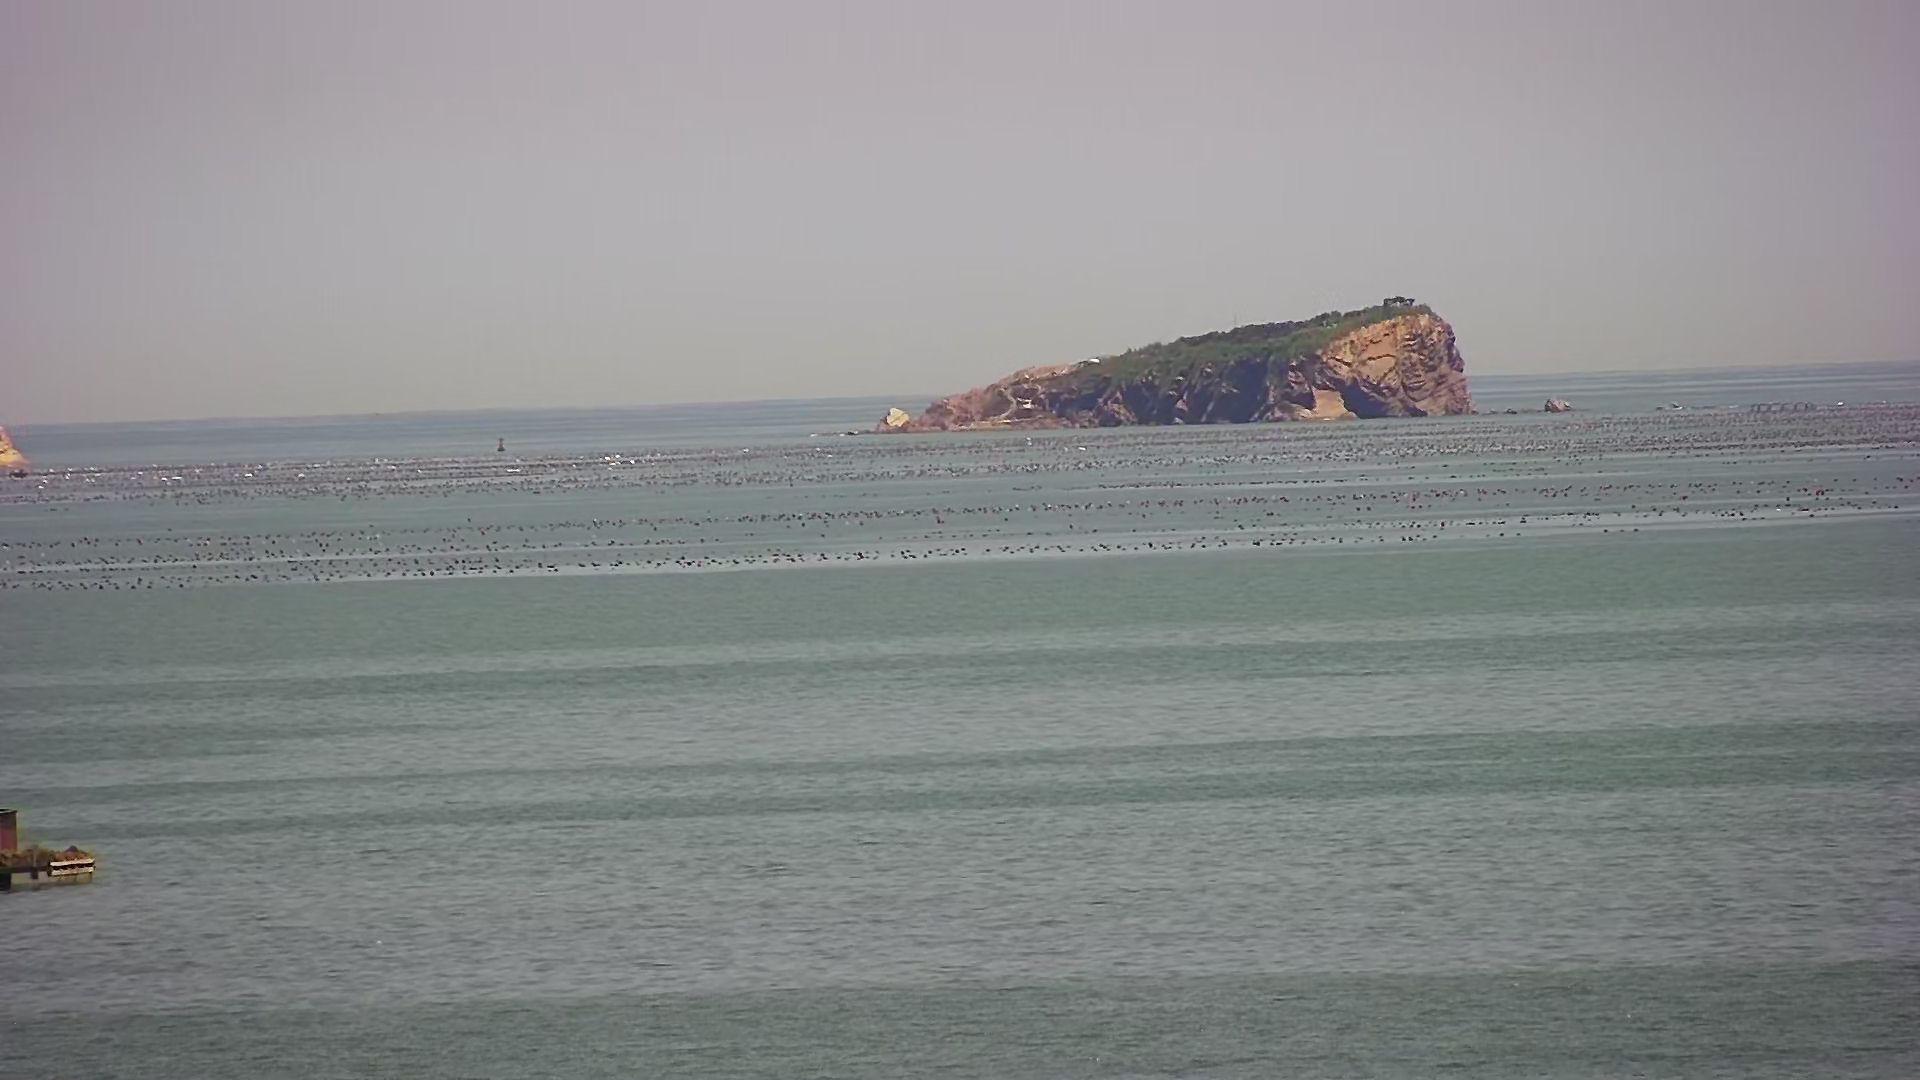platform: (1, 800, 98, 905)
rock: (837, 291, 1571, 433)
